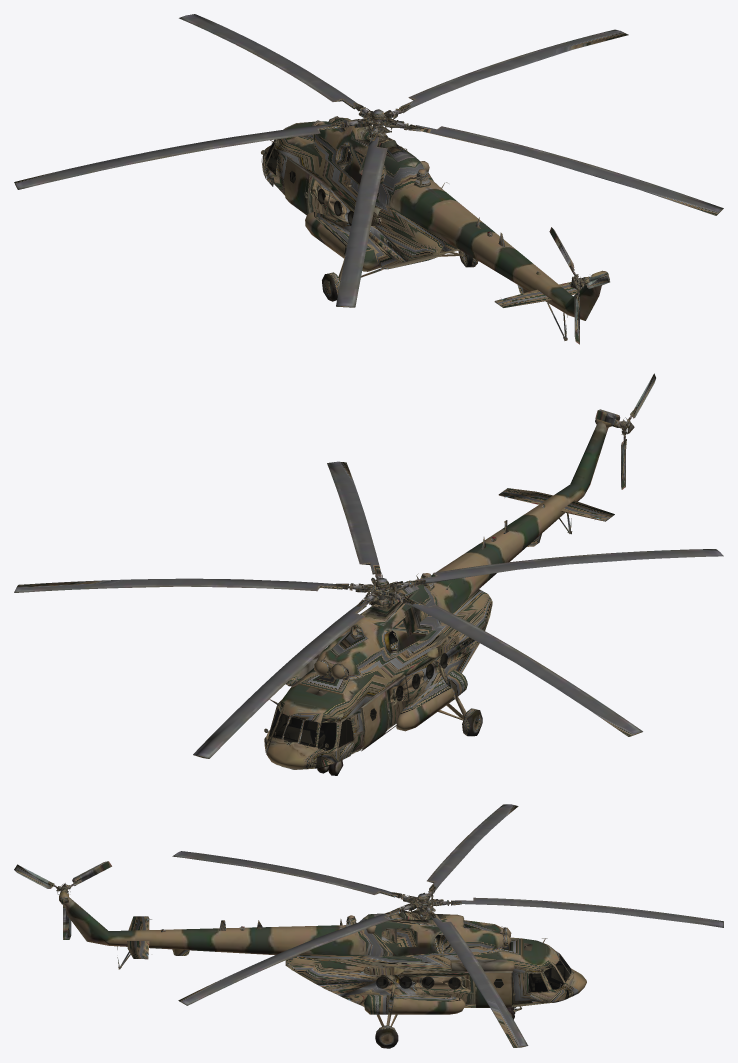
3 views of the same model, one above another, from view 1: azimuth 30°, elevation 25°; view 2: azimuth 150°, elevation 25°; view 3: azimuth 270°, elevation 25° (orthographic). The views are drawn at different scales.
Visible parts, largest first — view 1: MI-8, ROTOR_MAIN_mesh, ROTOR_TAIL_mesh; view 2: MI-8, ROTOR_MAIN_mesh, ROTOR_TAIL_mesh; view 3: MI-8, ROTOR_MAIN_mesh, ROTOR_TAIL_mesh.
Boxes of the visible parts, x1,y1,x2,y2 form: MI-8: [261, 116, 609, 340]; ROTOR_MAIN_mesh: [14, 14, 723, 307]; ROTOR_TAIL_mesh: [549, 227, 609, 344]; MI-8: [264, 421, 614, 775]; ROTOR_MAIN_mesh: [14, 461, 723, 758]; ROTOR_TAIL_mesh: [595, 373, 655, 489]; MI-8: [63, 897, 586, 1048]; ROTOR_MAIN_mesh: [172, 804, 723, 1047]; ROTOR_TAIL_mesh: [14, 861, 111, 939].
Bounding box in the file's own units: 8.13 × 2.36 × 10.
5 materials, 4 textured.
